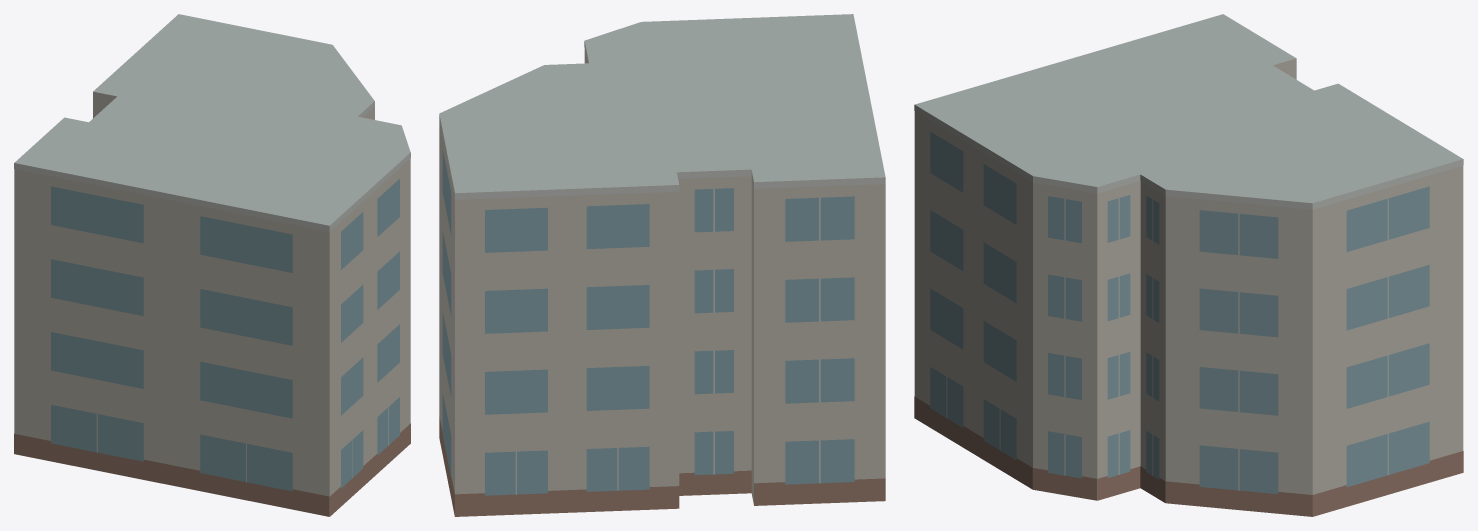
The model's file is survey-upis-32683454.glb.
The picture shows the model from 3 angles, left to right: view 1: azimuth 30°, elevation 25°; view 2: azimuth 150°, elevation 25°; view 3: azimuth 270°, elevation 25°; orthographic projection. The views are drawn at different scales.
Visible parts, largest first — view 1: survey-upis-32683454.tmp; view 2: survey-upis-32683454.tmp; view 3: survey-upis-32683454.tmp.
Part boxes in pixels (x1,y1,x2,y2): survey-upis-32683454.tmp: (14,14,410,516); survey-upis-32683454.tmp: (439,14,885,516); survey-upis-32683454.tmp: (914,14,1463,516).
Size of the model in its own units: 15.41 by 11.9 by 18.88.
